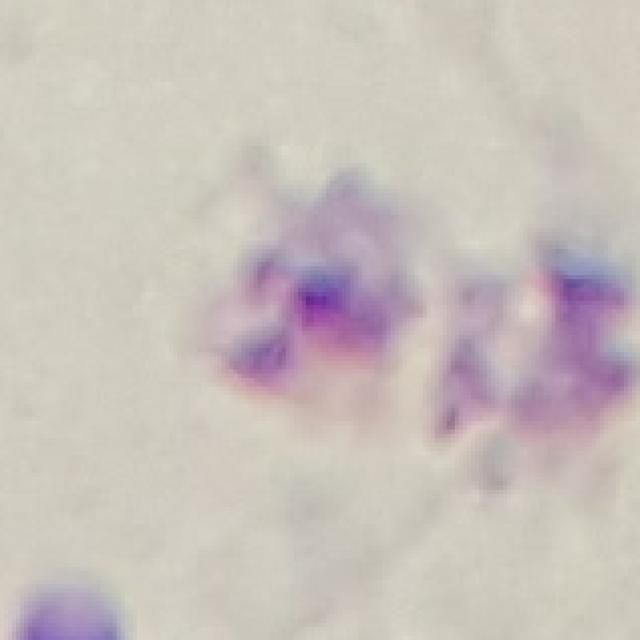non-sperm: (222, 212, 424, 398)
